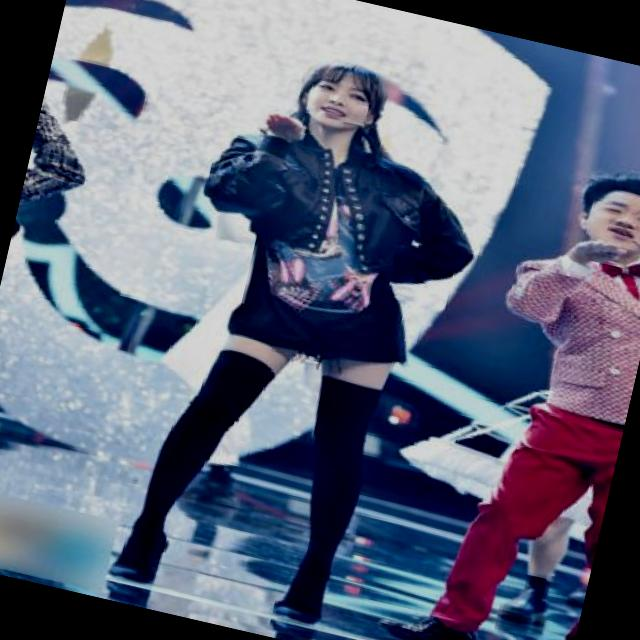Person: (58, 13, 540, 640), (368, 119, 640, 640)
